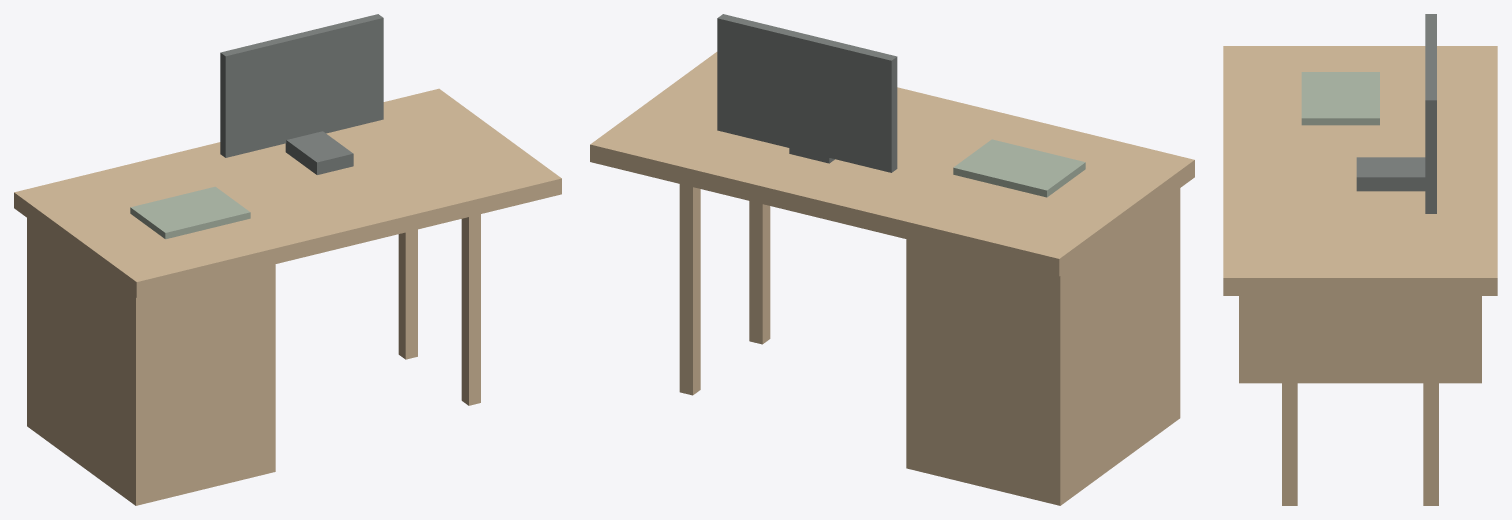
File: teacher-desk.glb
3 views of the same model, side by side, from view 1: azimuth 30°, elevation 25°; view 2: azimuth 150°, elevation 25°; view 3: azimuth 270°, elevation 25° (orthographic). The views are drawn at different scales.
Parts seen in each view (by area): view 1: root; view 2: root; view 3: root.
Boxes of the visible parts, x1,y1,x2,y2 form: root: (14,14,561,505); root: (590,14,1194,505); root: (1223,14,1497,505).
Size of the model in its own units: 1.4 by 1.09 by 0.7.
